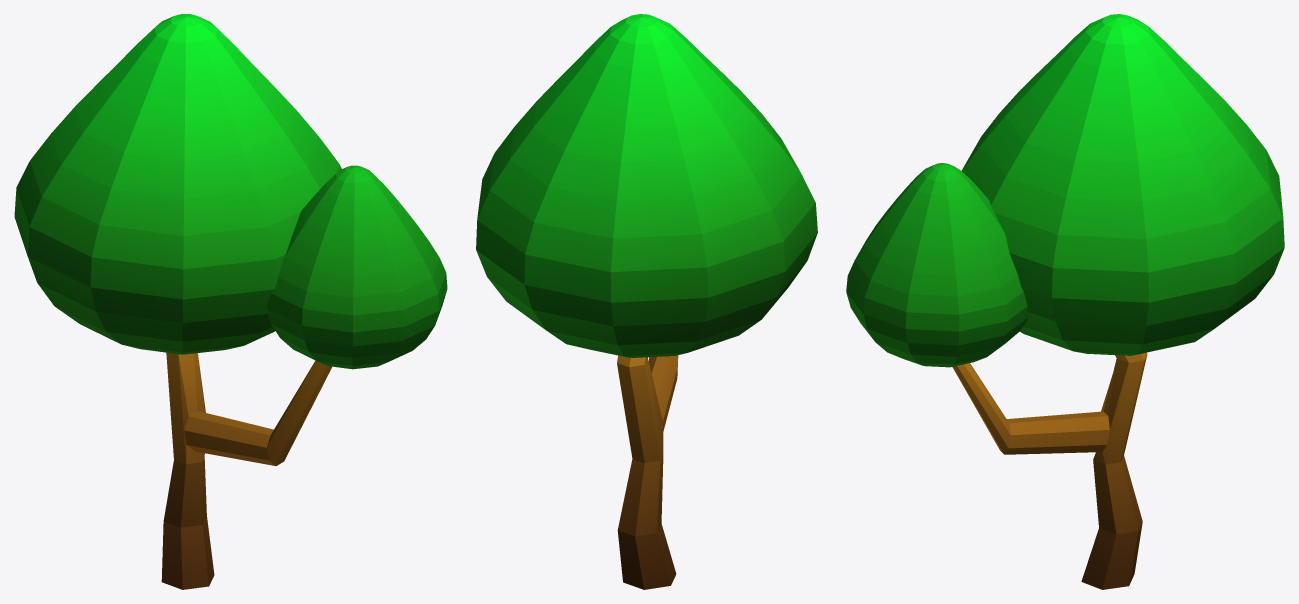
The picture shows the model from 3 angles, left to right: view 1: azimuth 30°, elevation 25°; view 2: azimuth 150°, elevation 25°; view 3: azimuth 270°, elevation 25°; orthographic projection.
Parts seen in each view (by area): view 1: Object_1123; view 2: Object_1123; view 3: Object_1123.
Boxes of the visible parts, box(x1,y1,x2,y2) form: Object_1123: box(14, 14, 447, 589); Object_1123: box(476, 14, 817, 589); Object_1123: box(846, 14, 1284, 589).
Bounding box in the file's own units: 0.5588 × 0.9572 × 0.6767.
Materials: 1 (1 with a texture image).
